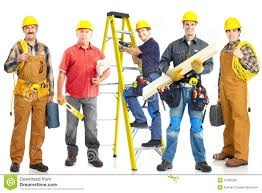helmet: (223, 16, 243, 33), (20, 14, 40, 30), (74, 18, 95, 33), (180, 10, 200, 24), (134, 19, 153, 32)
person with partial safety: (157, 11, 214, 172), (4, 15, 55, 172), (58, 19, 109, 168), (212, 17, 260, 167), (118, 20, 160, 76)
